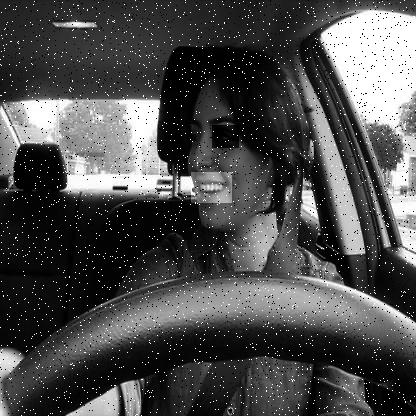seatbelt: (154, 30, 314, 416)
